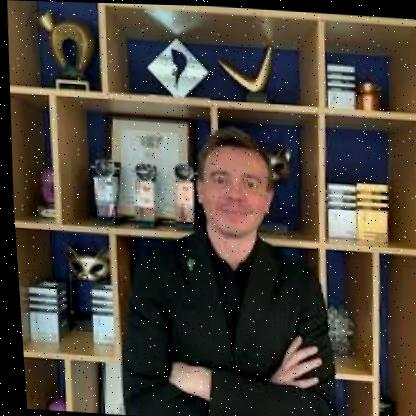person: (184, 120, 287, 245)
